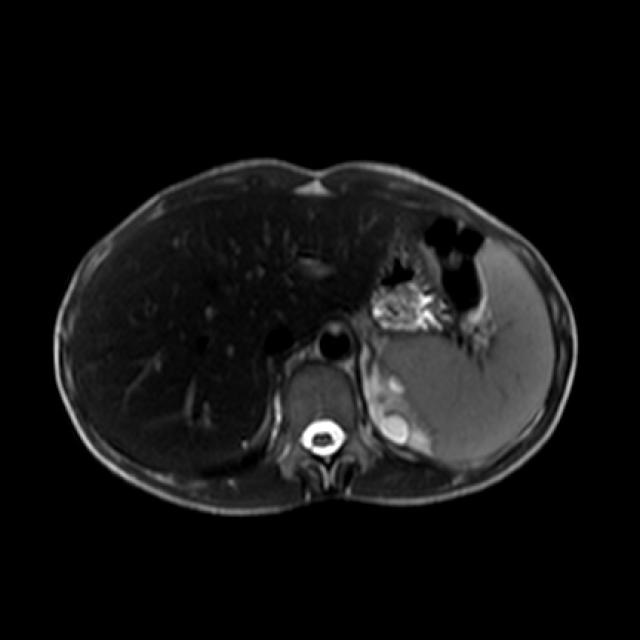sol: (373, 369, 434, 450)
